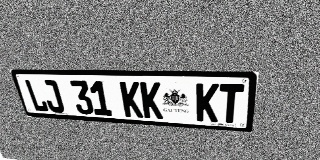1: (88, 81, 112, 116)
3: (69, 80, 95, 115)
J: (40, 80, 65, 113)
K: (196, 83, 219, 122), (120, 81, 143, 118), (140, 82, 163, 119)
L: (24, 79, 50, 112)
T: (218, 84, 244, 124)
